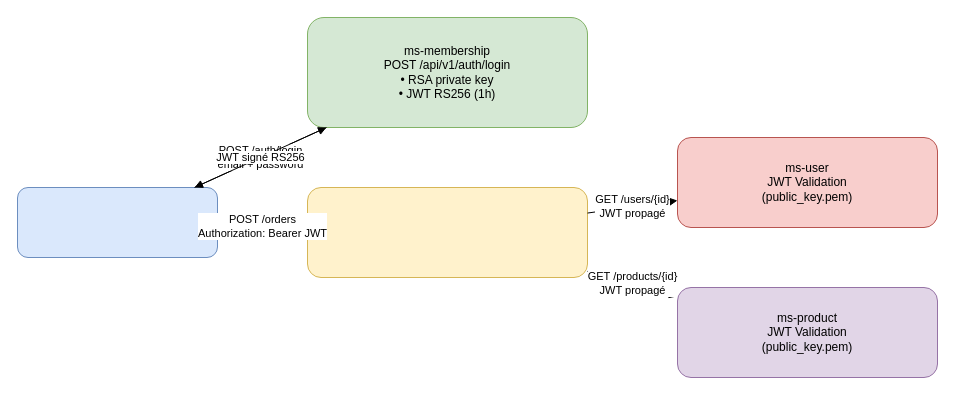
Some shapes in this 955 by 395 pixel diagram are drawn without their labels. Each missing label, with the centre of its shape:
"Client (Postman / Frontend)" goes at [117,222].
"ms-order JWT Validation (public_key.pem)" goes at [447,232].
